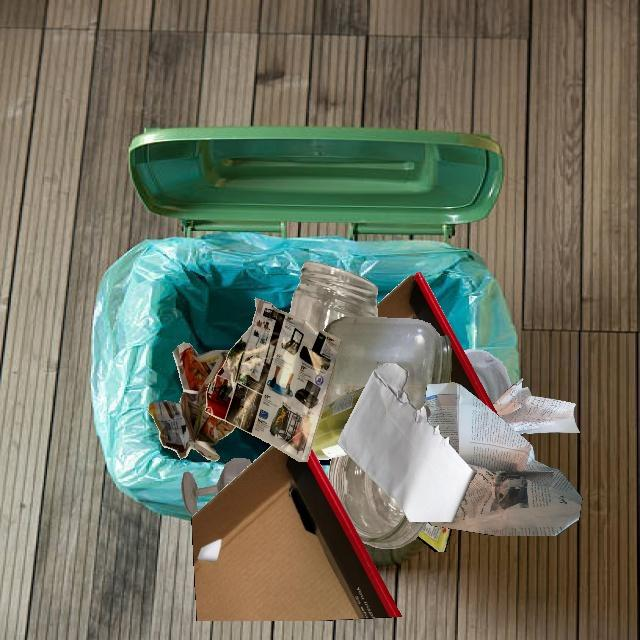cardboard: (191, 445, 402, 621), (377, 271, 498, 416)
glass: (324, 316, 452, 410), (328, 454, 426, 549), (289, 261, 378, 331), (181, 458, 251, 515), (312, 387, 365, 460)
paper: (424, 382, 582, 536), (205, 297, 342, 462), (337, 363, 476, 522), (148, 343, 236, 461), (492, 378, 580, 435)
plastic: (464, 349, 511, 405)
trash: (417, 522, 452, 552)
